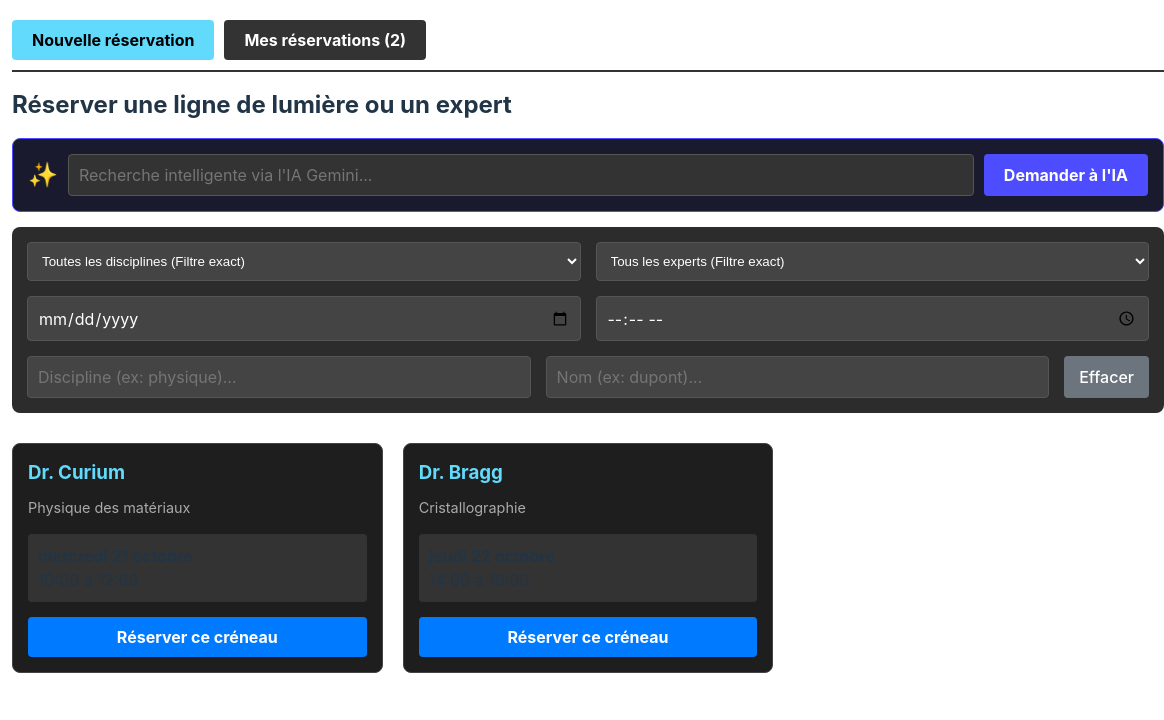
Test case: Composant BookingTunnel › filtre les créneaux par spécialité
Expected: the heading "Dr. Curium" is shown, [28, 461, 125, 484]
Select "Cristallographie" in the 1st dropdown at (304,262), box [27, 242, 580, 281]
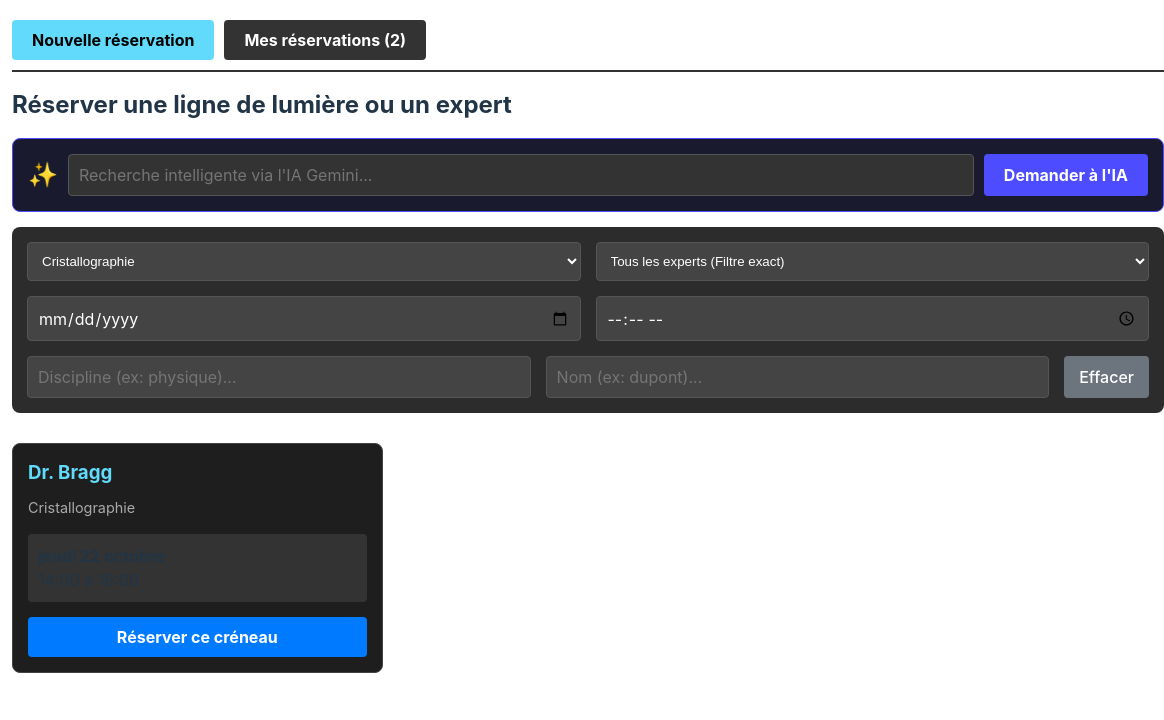
Expected: the heading "Dr. Bragg" is shown, [28, 461, 112, 484]
Expected: the heading "Dr. Curium" is gone
